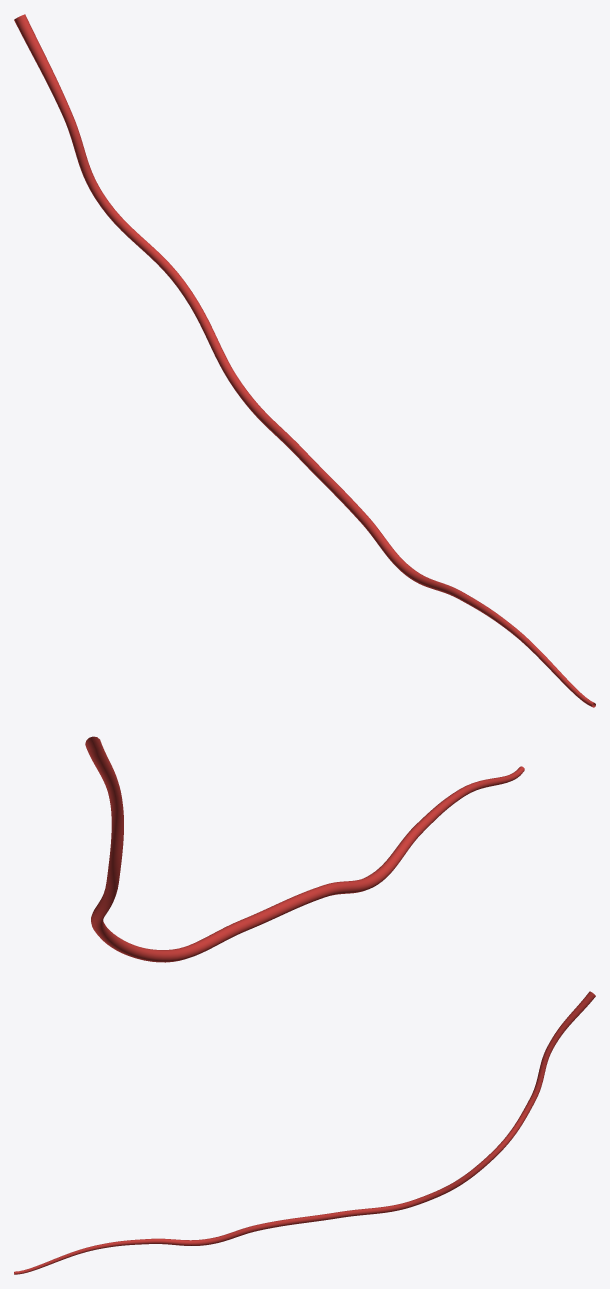
The picture shows the model from 3 angles, top to bottom: view 1: azimuth 30°, elevation 25°; view 2: azimuth 150°, elevation 25°; view 3: azimuth 270°, elevation 25°; orthographic projection. The views are drawn at different scales.
Parts seen in each view (by area): view 1: 右侧腹壁下动脉; view 2: 右侧腹壁下动脉; view 3: 右侧腹壁下动脉.
Part boxes in pixels (x1=…): 右侧腹壁下动脉: x1=14, y1=14, x2=595, y2=707; 右侧腹壁下动脉: x1=85, y1=736, x2=524, y2=962; 右侧腹壁下动脉: x1=14, y1=991, x2=595, y2=1274.
Bounding box in the file's own units: 0.0436 × 0.129 × 0.2762.
